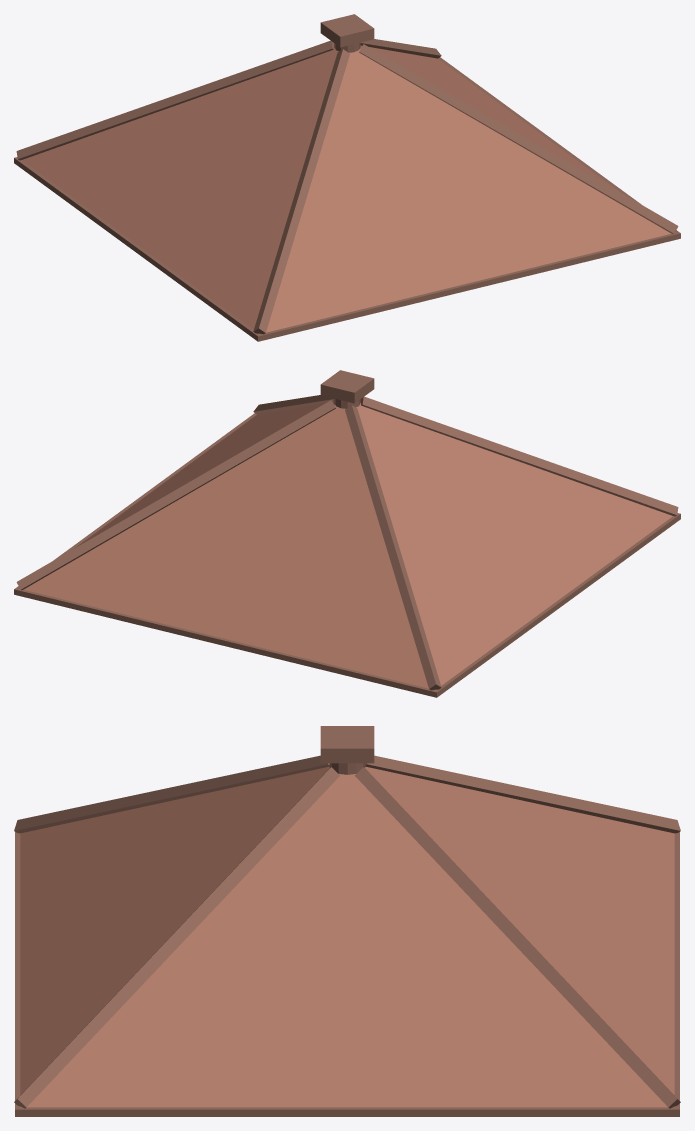
The model's file is dm_hiproof.glb.
The picture shows the model from 3 angles, top to bottom: view 1: azimuth 30°, elevation 25°; view 2: azimuth 150°, elevation 25°; view 3: azimuth 270°, elevation 25°; orthographic projection. The views are drawn at different scales.
Parts seen in each view (by area): view 1: dm_hiproof; view 2: dm_hiproof; view 3: dm_hiproof.
Part boxes in pixels (box(x1,y1,x2,y2)): dm_hiproof: box(14, 14, 680, 341); dm_hiproof: box(14, 370, 680, 697); dm_hiproof: box(14, 726, 680, 1116).
Size of the model in its own units: 7.46 by 2.95 by 7.46.
